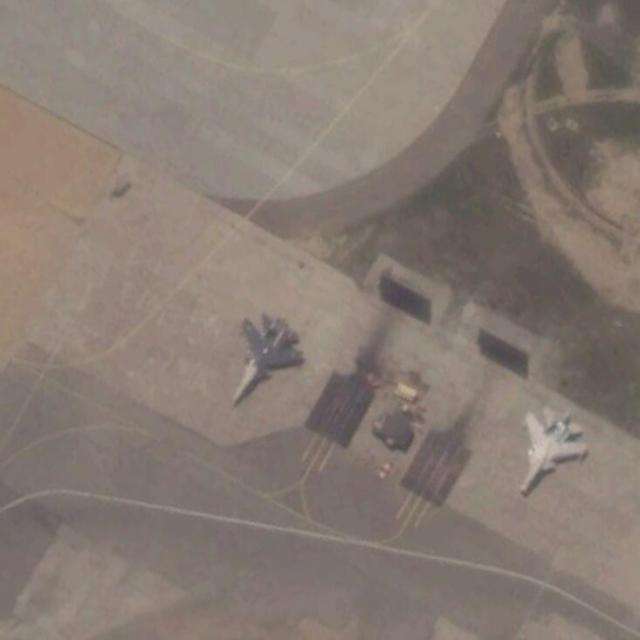fighter jet: (225, 315, 307, 404), (516, 403, 589, 494)
